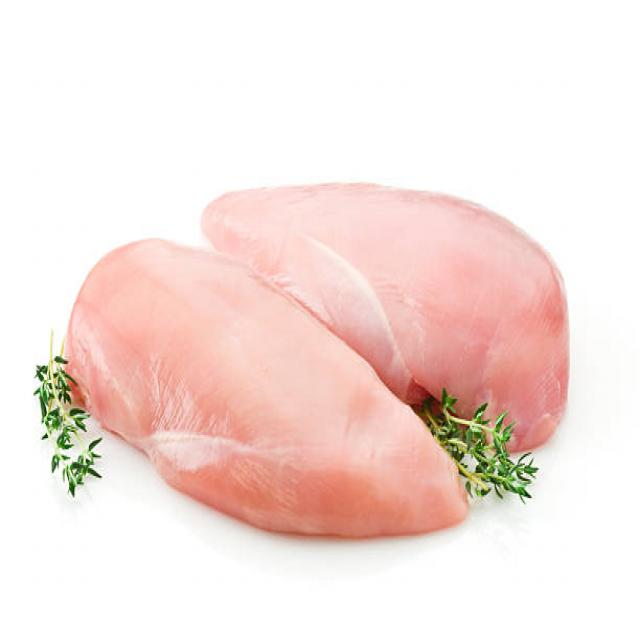Chicken: (248, 121, 570, 362), (35, 277, 360, 508)
